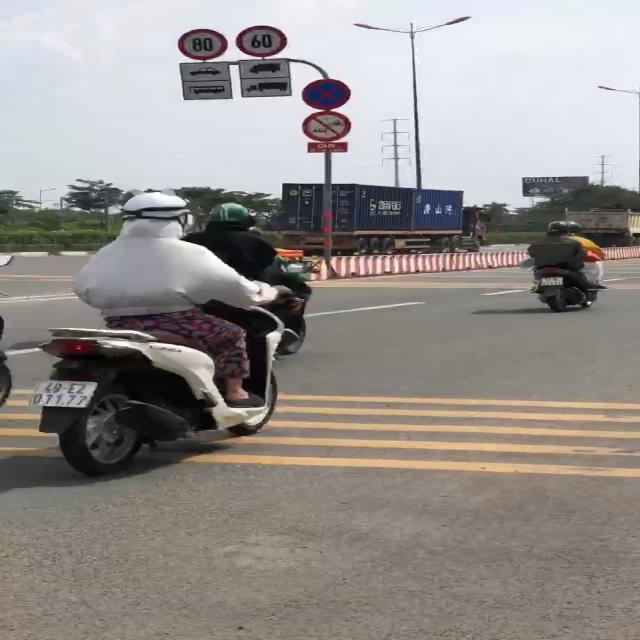Bien bao cam dung xe va do xe: (299, 76, 354, 112)
Bien bao toc do toi da cho phep: (228, 22, 296, 59), (172, 26, 232, 61)
